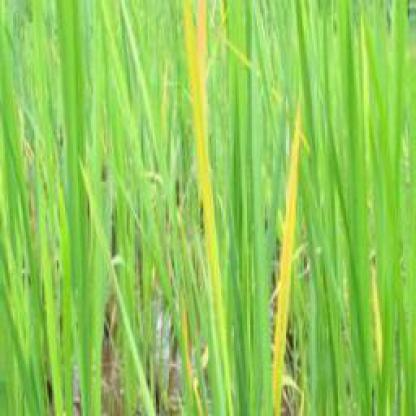Tungro: (185, 3, 226, 416), (266, 103, 312, 414)
